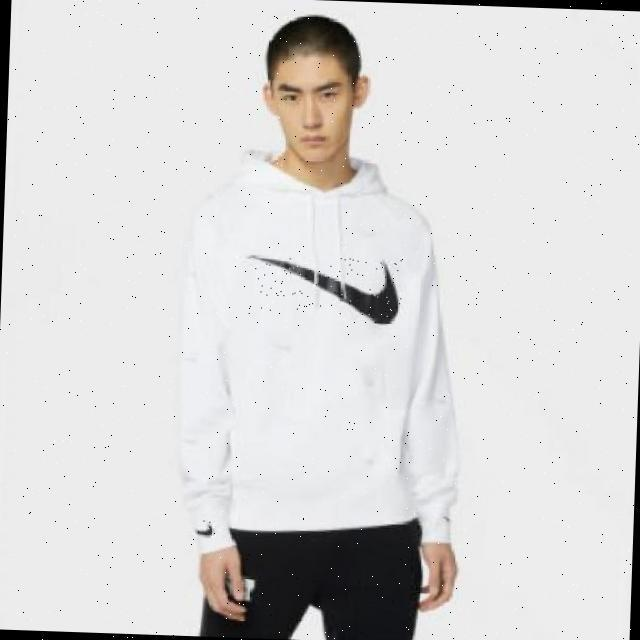Nike: (248, 255, 402, 320), (197, 520, 215, 535)
